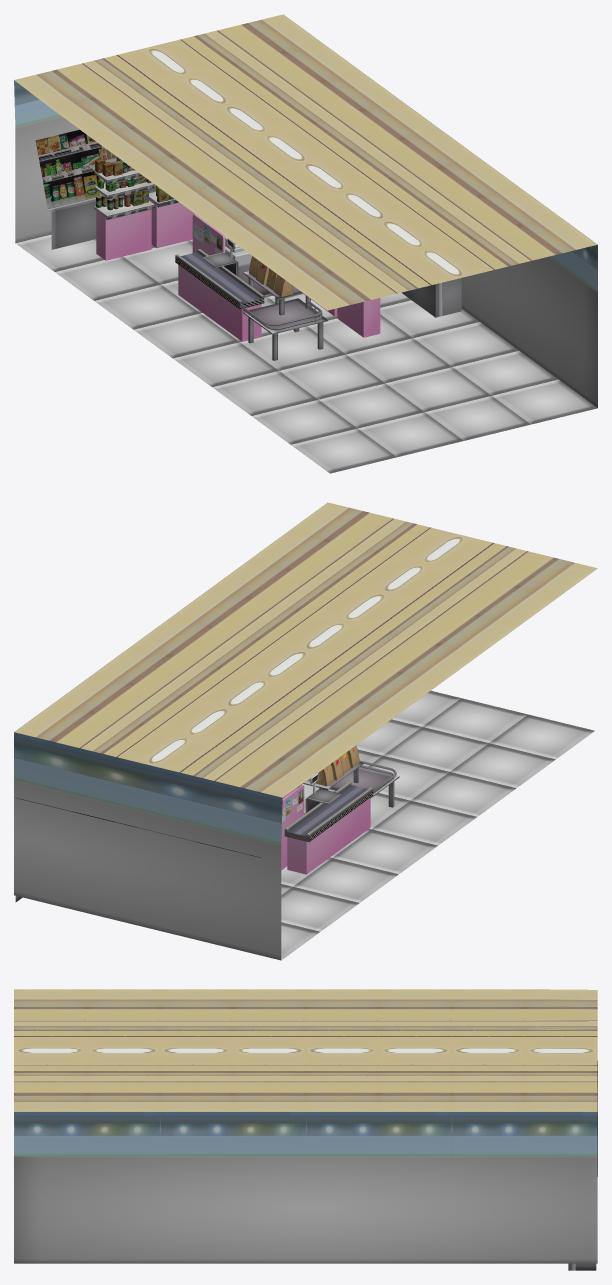
File: Supermarket.FBX
3 renders of one model, top to bottom at view 1: azimuth 30°, elevation 25°; view 2: azimuth 150°, elevation 25°; view 3: azimuth 270°, elevation 25°, orthographic. The views are drawn at different scales.
Visible parts, largest first — view 1: Plane001, Plane003, Box001, Box027, Box026, Box011, Plane002, Box022, Box025; view 2: Plane001, Box001, Box011, Box025; view 3: Plane001.
Part boxes in pixels (box(x1,y1,x2,y2)): Plane001: box(14, 14, 597, 473); Plane003: box(35, 129, 155, 249); Box001: box(175, 249, 264, 341); Box027: box(96, 199, 194, 260); Box026: box(94, 157, 178, 219); Box011: box(243, 298, 327, 360); Plane002: box(402, 278, 461, 317); Box022: box(304, 294, 380, 337); Box025: box(192, 214, 270, 295); Plane001: box(14, 502, 597, 960); Box001: box(284, 782, 373, 874); Box011: box(319, 767, 399, 807); Box025: box(281, 785, 304, 870); Plane001: box(14, 989, 597, 1263).
Size of the model in its own units: 13.16 by 7.96 by 26.49.
